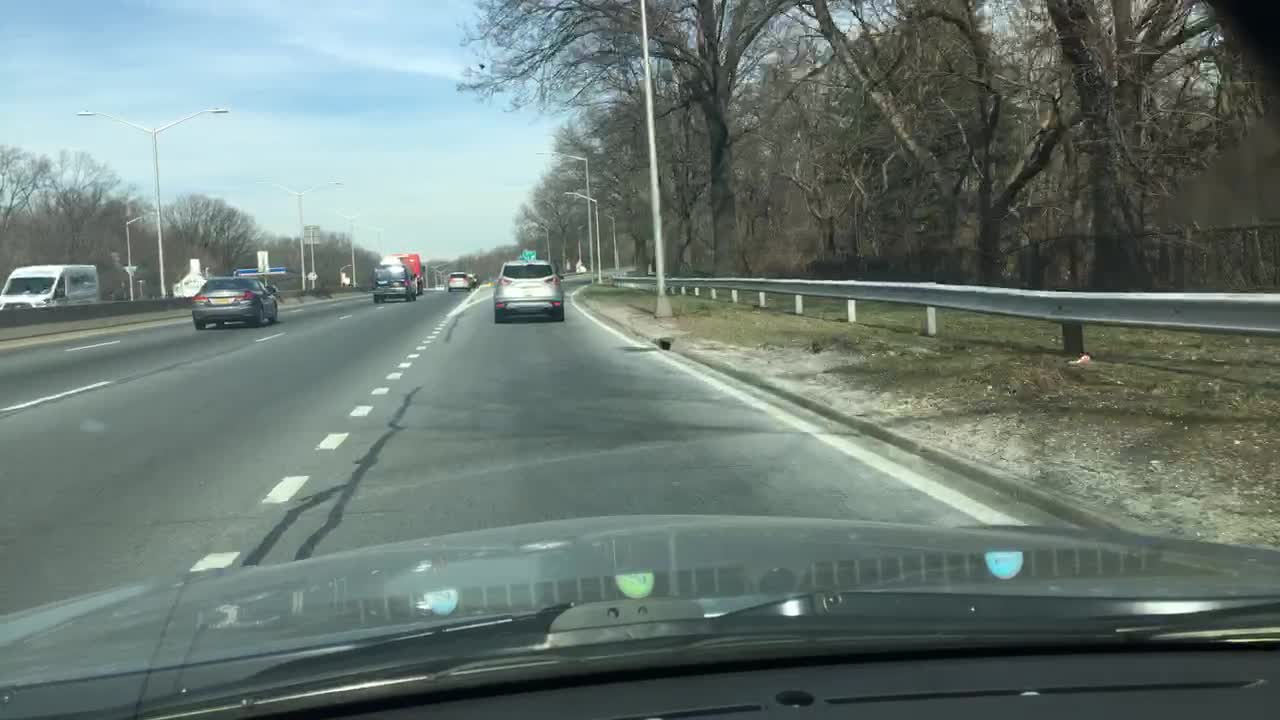car: (188, 277, 277, 326), (495, 262, 565, 320), (373, 264, 410, 301), (445, 272, 467, 291), (467, 270, 480, 286)
traffic sign: (301, 225, 316, 245), (257, 252, 268, 272), (524, 249, 536, 262), (190, 258, 198, 277)
truck: (0, 263, 102, 308), (380, 254, 426, 290)
